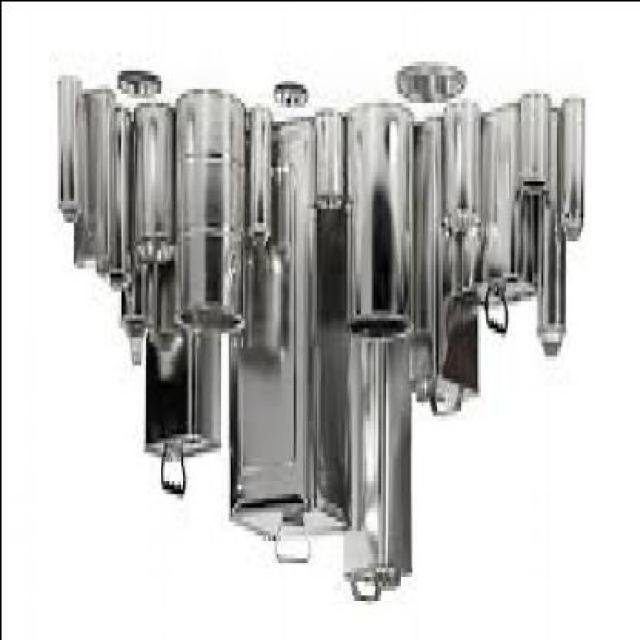metal: (231, 120, 352, 548), (343, 318, 411, 604), (144, 217, 222, 466), (415, 120, 480, 409), (177, 97, 248, 337), (462, 111, 538, 314), (351, 106, 415, 346), (121, 116, 157, 370), (538, 111, 570, 360), (74, 92, 115, 268), (97, 97, 134, 291), (137, 106, 178, 263), (443, 115, 479, 240), (154, 245, 181, 383), (60, 79, 82, 226), (316, 115, 346, 217), (252, 110, 272, 244), (523, 101, 551, 194), (571, 106, 586, 240), (400, 69, 468, 97), (118, 74, 162, 101), (276, 83, 306, 111)
